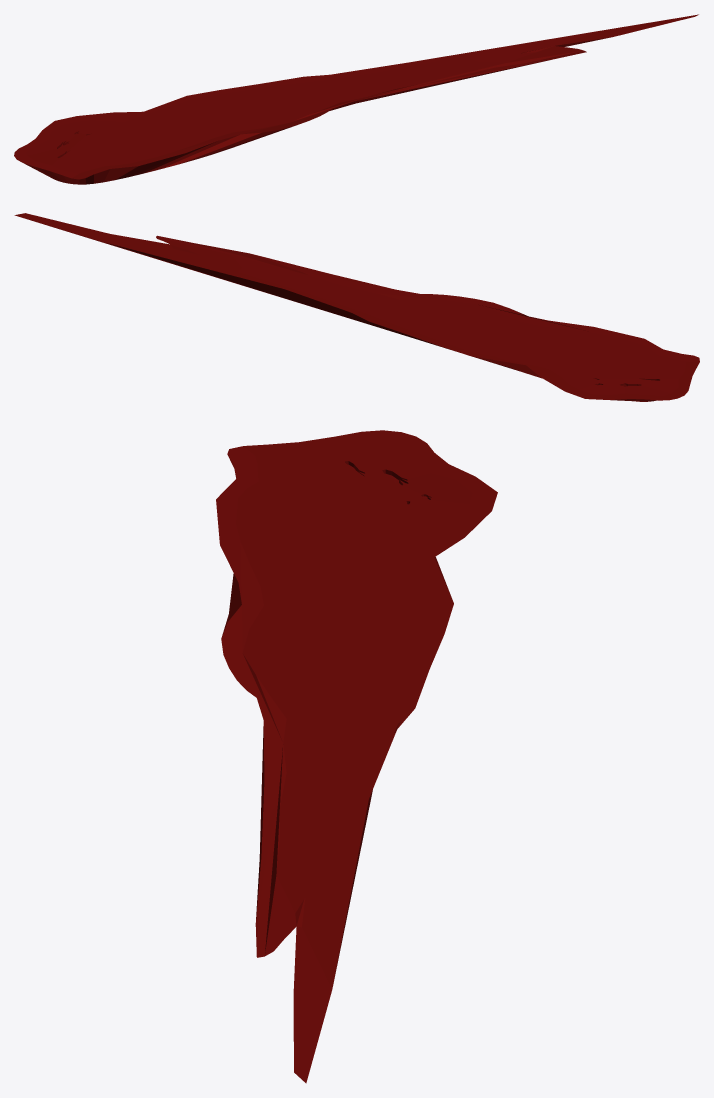
The model's file is Blood with paws1.fbx.
3 renders of one model, top to bottom at view 1: azimuth 30°, elevation 25°; view 2: azimuth 150°, elevation 25°; view 3: azimuth 270°, elevation 25°, orthographic. The views are drawn at different scales.
Parts seen in each view (by area): view 1: Blood; view 2: Blood; view 3: Blood.
Boxes of the visible parts, x1,y1,x2,y2 form: Blood: (14,14,698,184); Blood: (14,213,699,401); Blood: (216,430,497,1083).
Bounding box in the file's own units: 1621 × 38.92 × 298.
